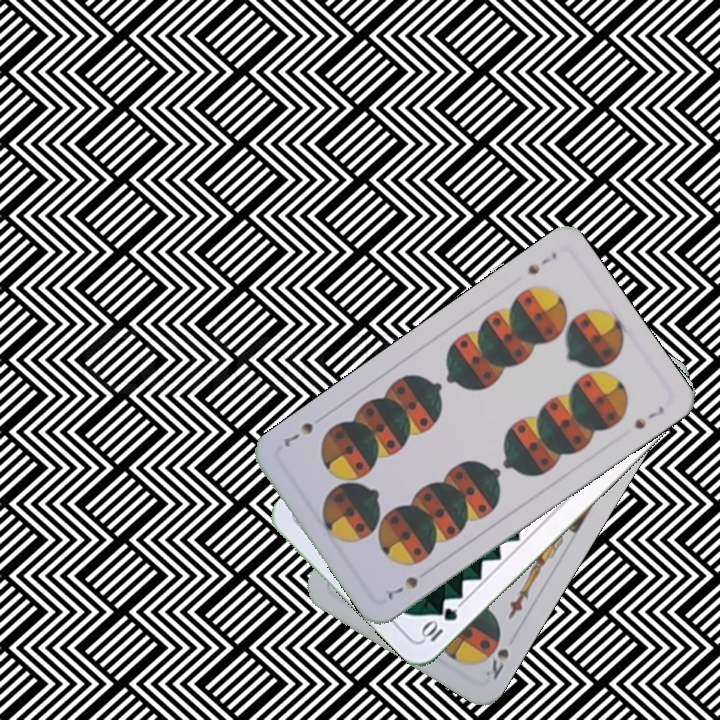G10: (417, 603, 461, 645)
S7: (383, 572, 421, 603), (523, 247, 560, 278)
SK: (480, 628, 512, 683)
